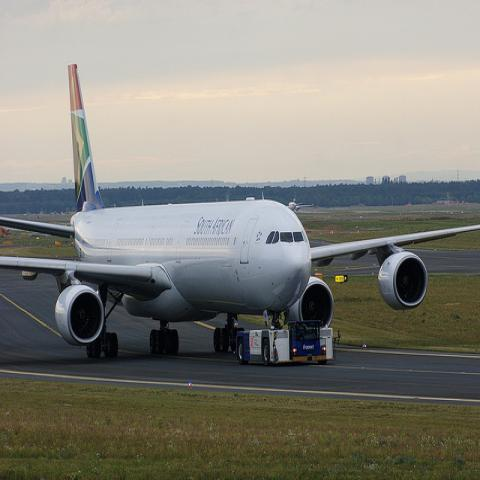truck: (235, 318, 336, 366)
